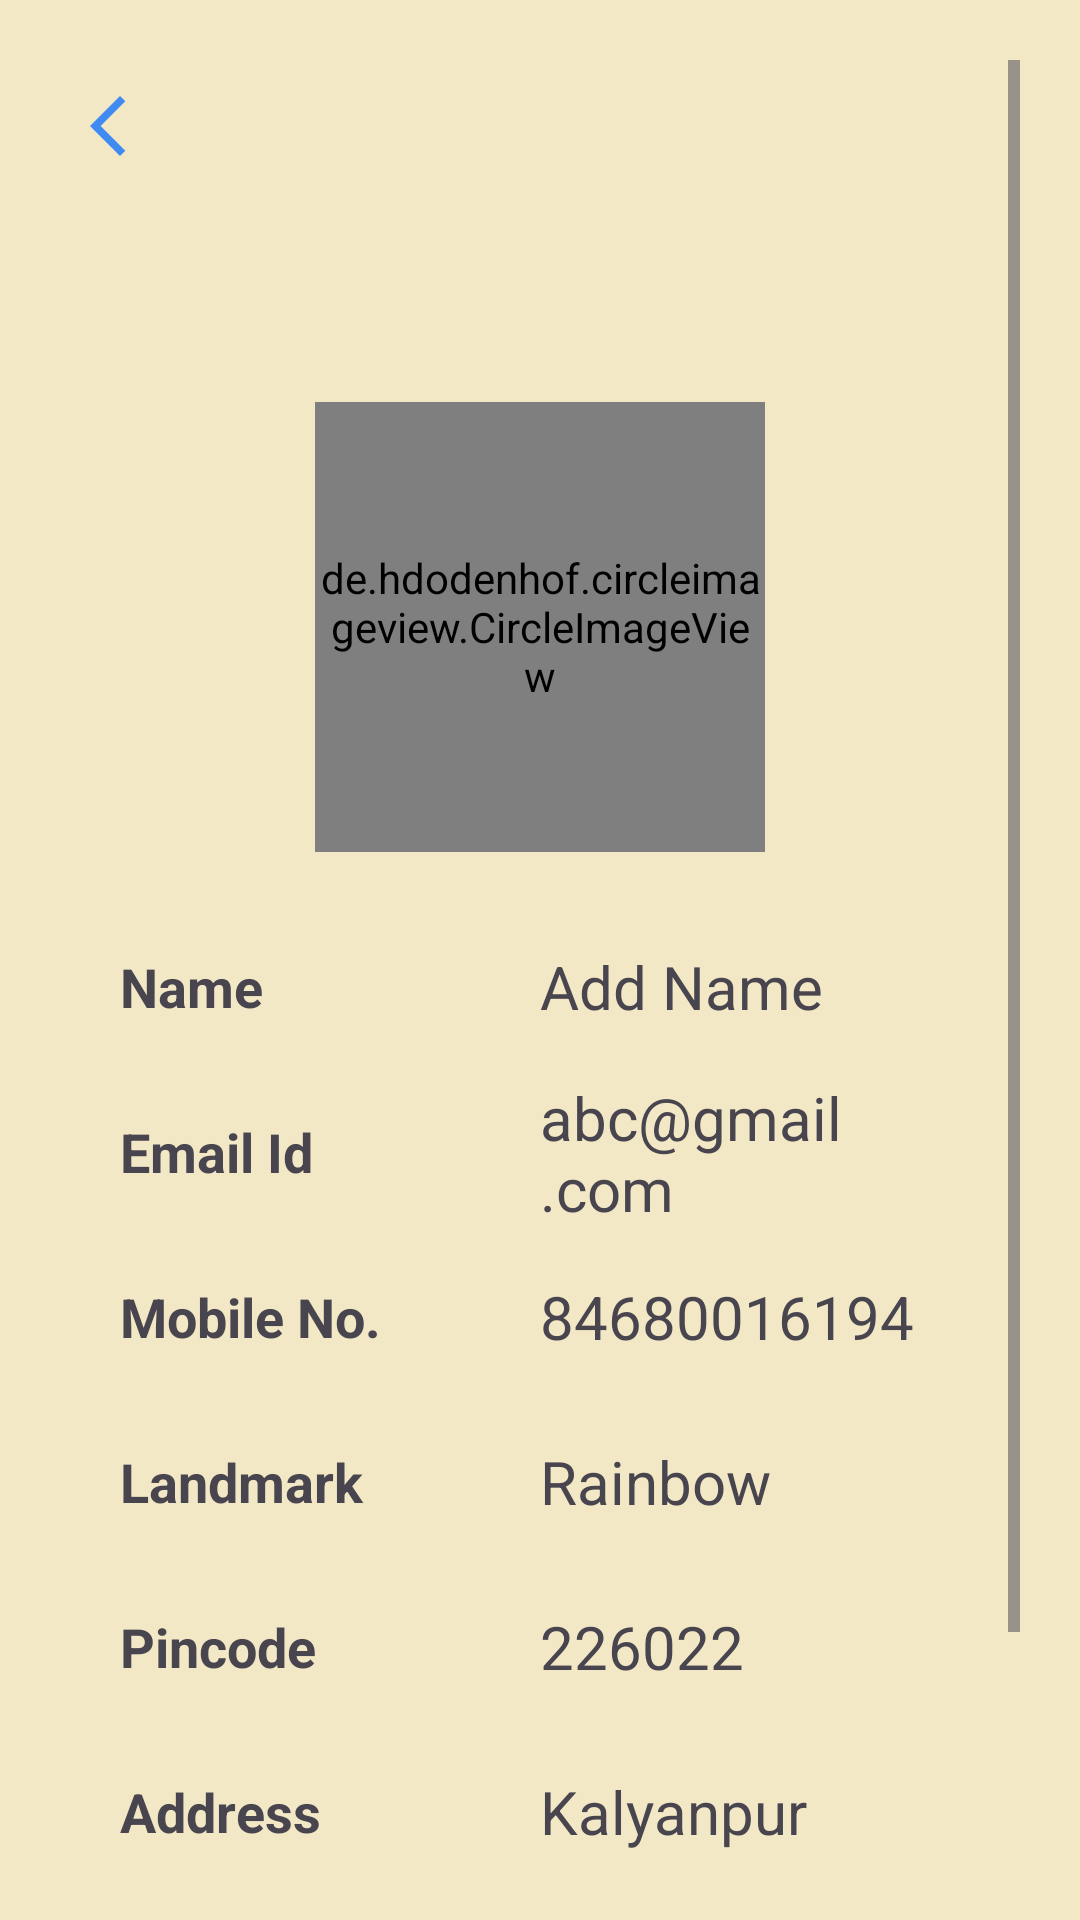

Named icons in this screenshot (1080w x 1920h) and their centers, (x=x, y=y):
arrow back: (x=107, y=126)
